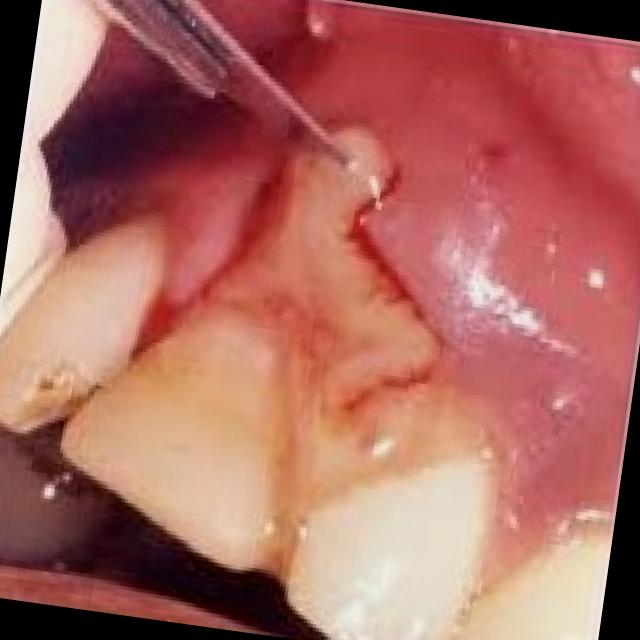abscess: (200, 78, 413, 356), (295, 262, 454, 438)
